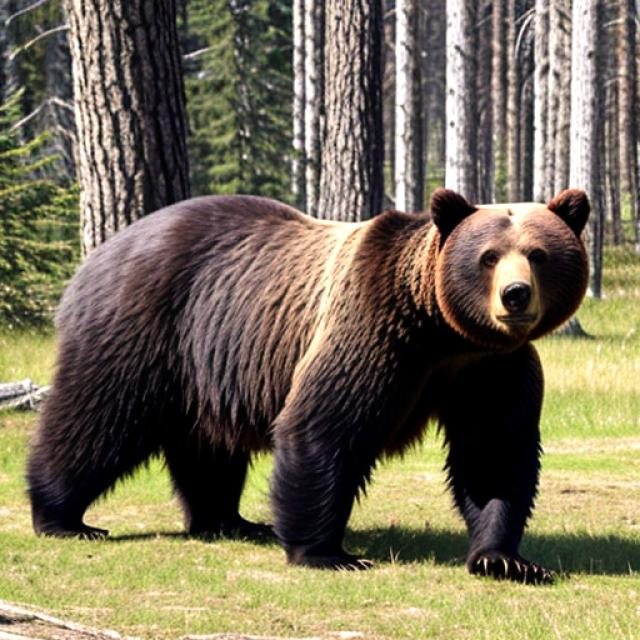bear: (416, 179, 605, 355)
